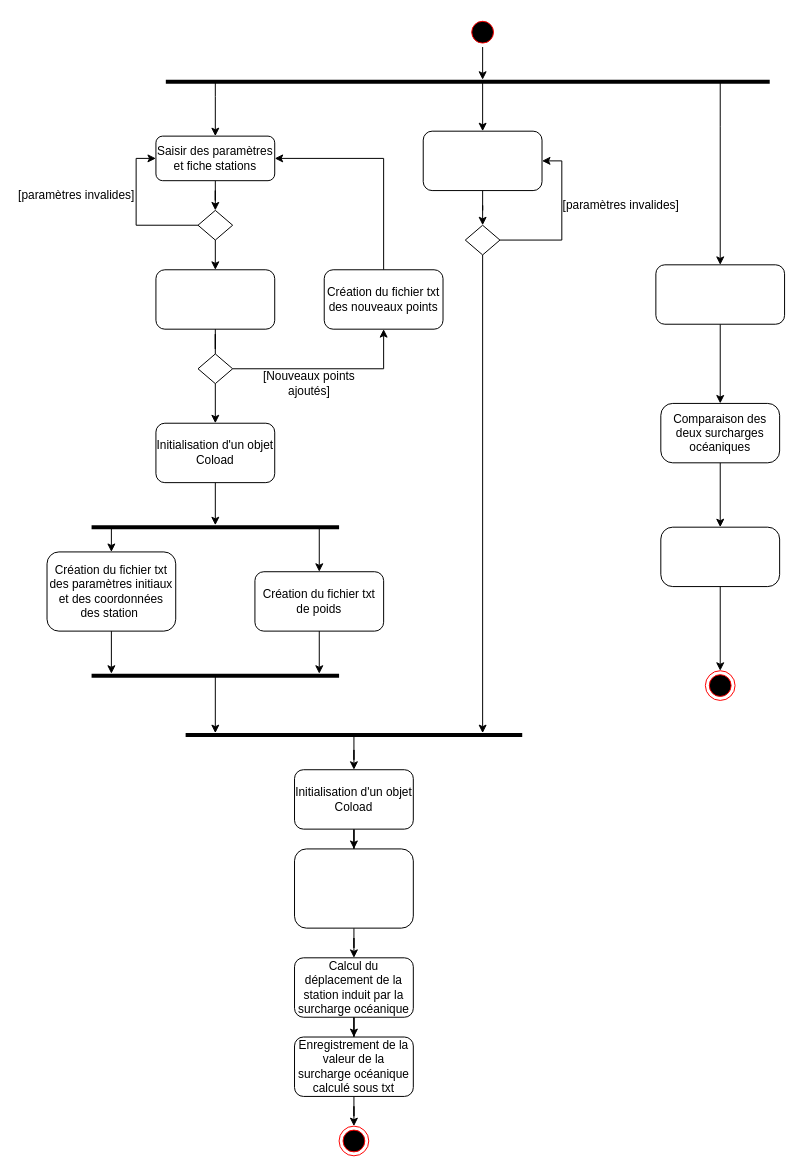
This 802x1173 diagram has some shape labels left out. The centre of each missing label's shape, as x and y in pixels:
"Affichage des résultats" goes at pixel 720 556.
"Ajout et suppression de points du fichier BLQ.blq" goes at pixel 215 299.
"Calcul des paramètres amplitude et phase de la station à déterminer" goes at pixel 353 888.
"Saisir deux fichiers de valeurs de surcharges océaniques" goes at pixel 720 294.
"Saisir les coordonnées et la date du point à calculer" goes at pixel 482 160.
